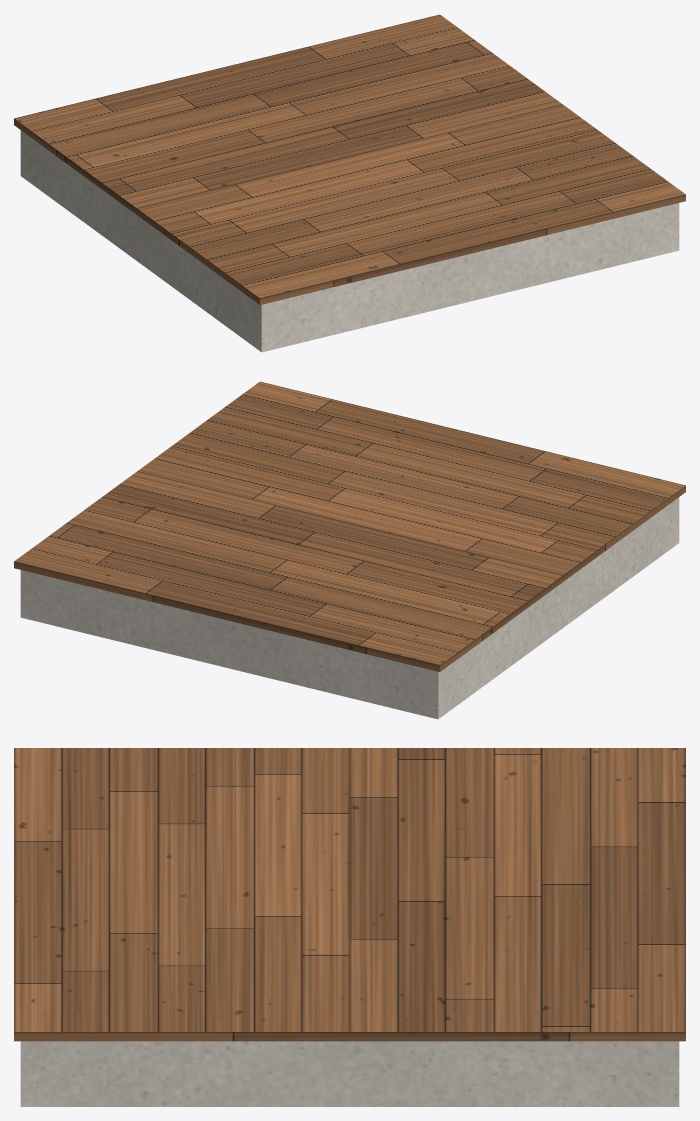
File: floor_floor_u.glb
The picture shows the model from 3 angles, top to bottom: view 1: azimuth 30°, elevation 25°; view 2: azimuth 150°, elevation 25°; view 3: azimuth 270°, elevation 25°; orthographic projection. The views are drawn at different scales.
Visible parts, largest first — view 1: floor_floor_u_floor, floor_floor_u_plaster; view 2: floor_floor_u_floor, floor_floor_u_plaster; view 3: floor_floor_u_floor, floor_floor_u_plaster.
Boxes of the visible parts, <box> form: floor_floor_u_floor: <box>14,14,685,304</box>; floor_floor_u_plaster: <box>20,130,679,352</box>; floor_floor_u_floor: <box>14,381,685,671</box>; floor_floor_u_plaster: <box>20,497,679,719</box>; floor_floor_u_floor: <box>14,748,685,1041</box>; floor_floor_u_plaster: <box>20,1041,679,1106</box>.
Size of the model in its own units: 2 by 0.255 by 2.
Materials: 2 (2 with a texture image).
